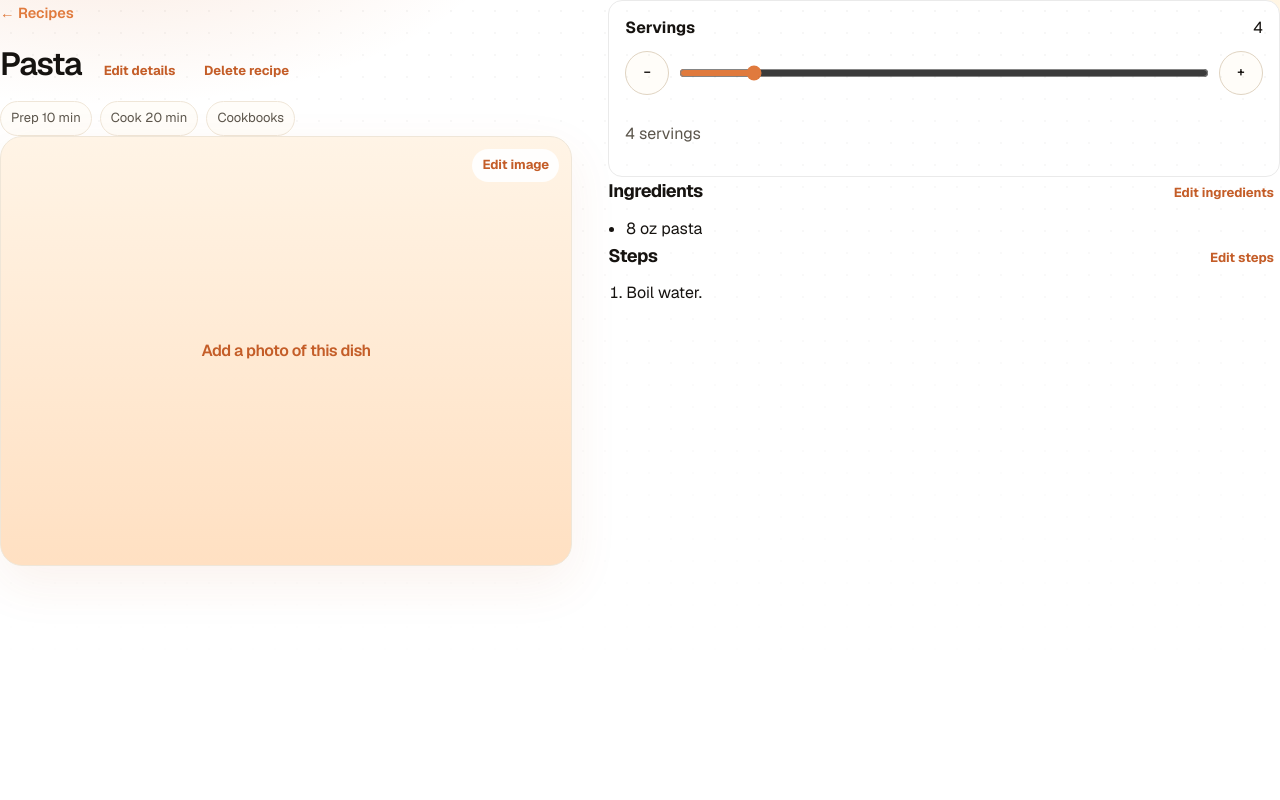
kitchen sheet-hosted forms › keeps focus while typing a recipe title
Click the button "Edit details" at (140, 72), box [98,60,182,83]
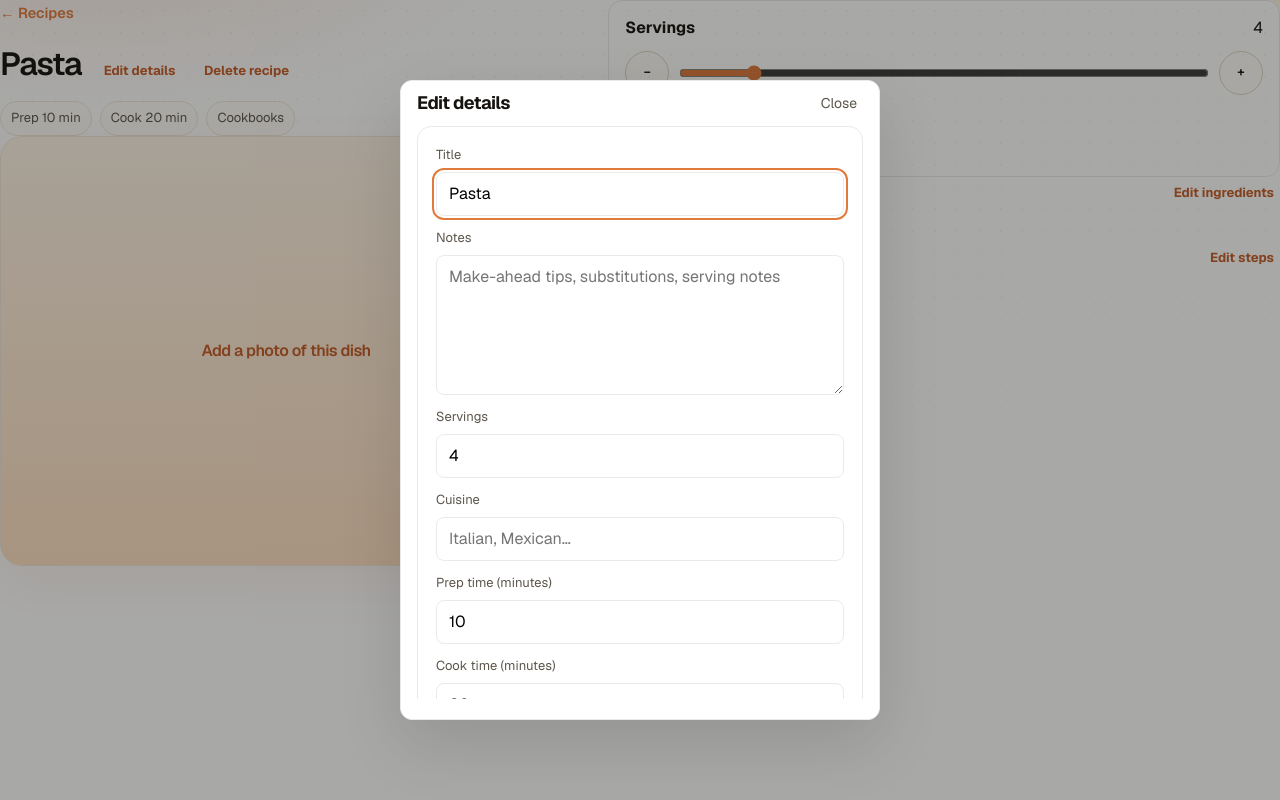
Clear the field labelled "Title" at (640, 194), box [436,172,844,216]
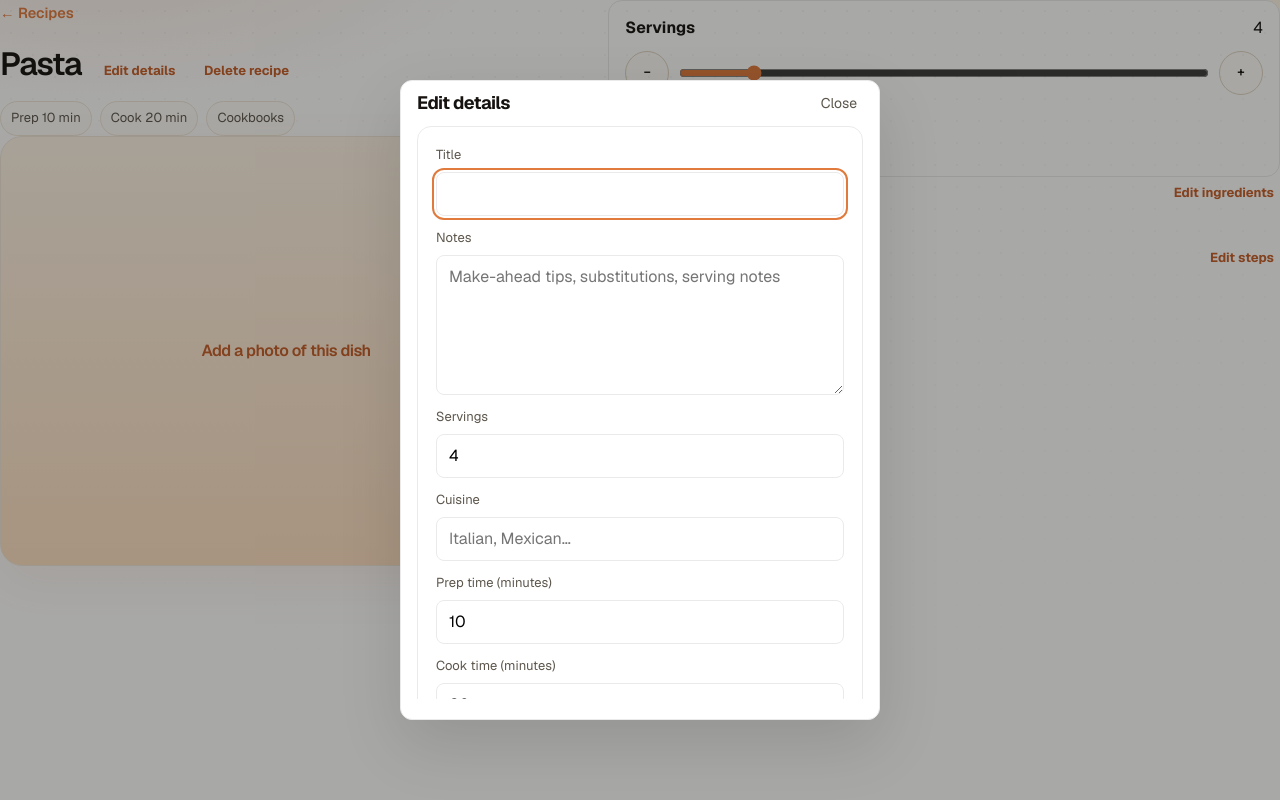
Type keys "Garlic"
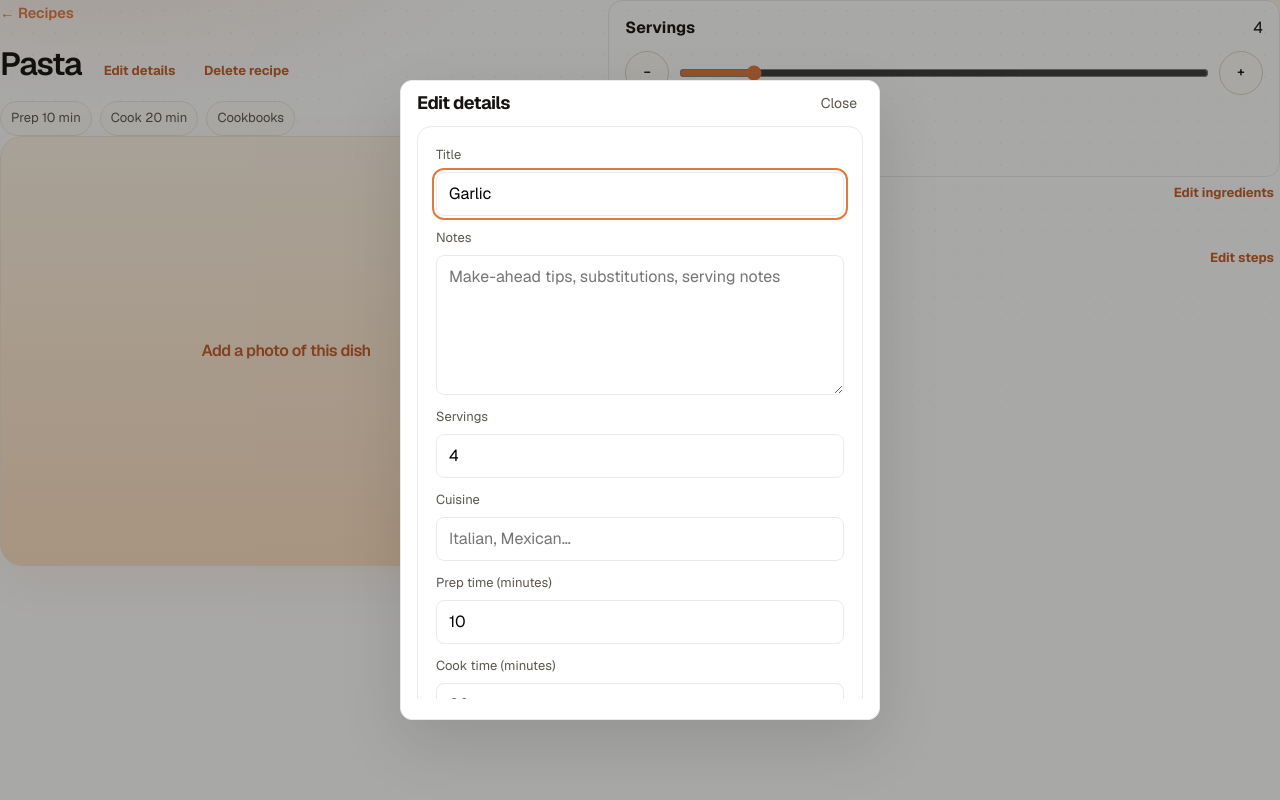
Expected: the field labelled "Title" holds "Garlic", [436,172,844,216]
Clear the text box labelled "Notes" at (640, 325), box [436,255,844,395]
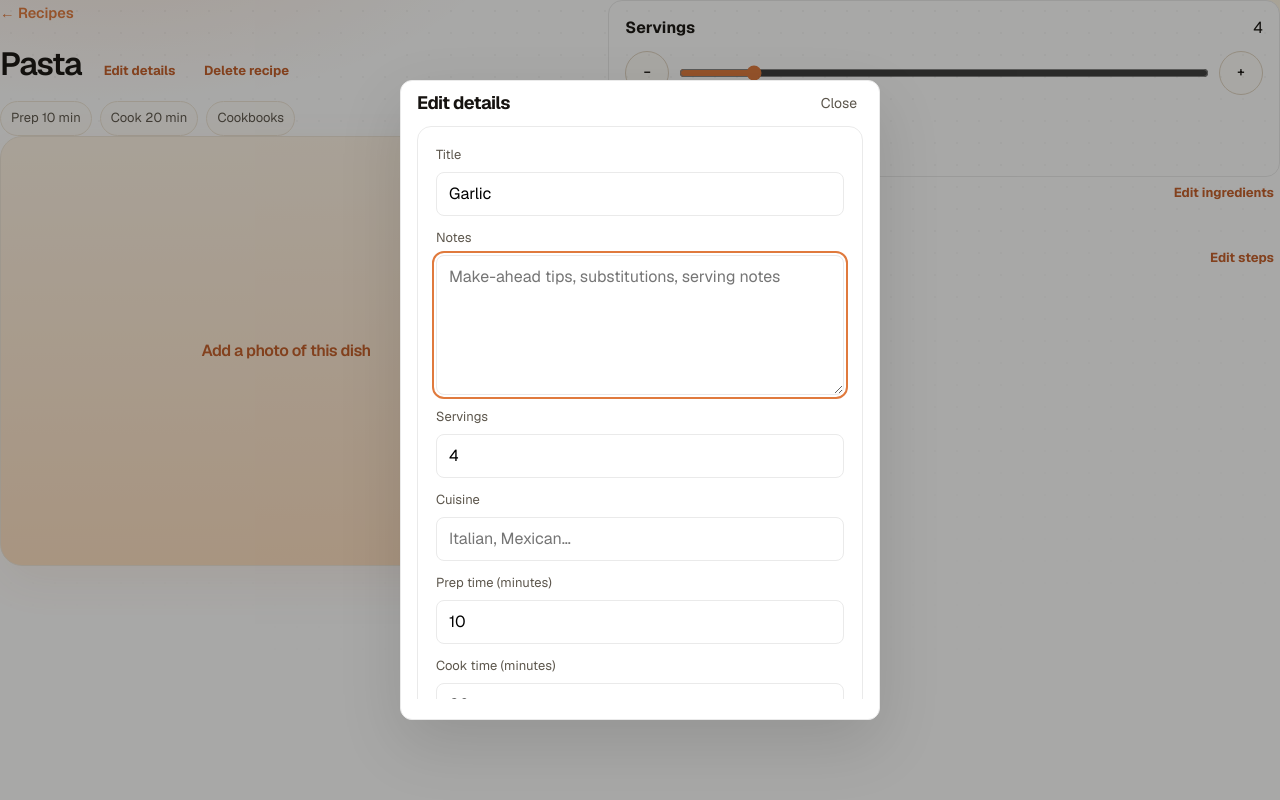
Type keys "ahead"
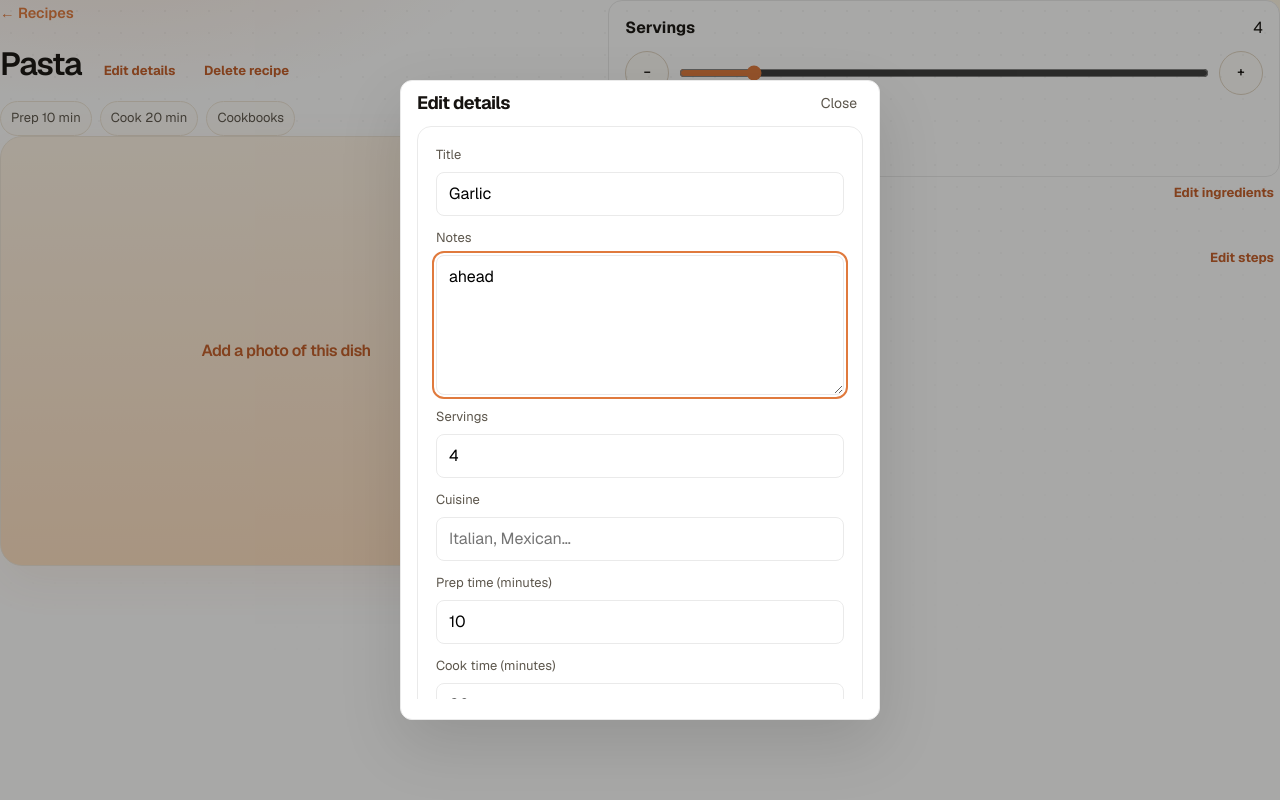
Expected: the text box labelled "Notes" holds "ahead", [436,255,844,395]
